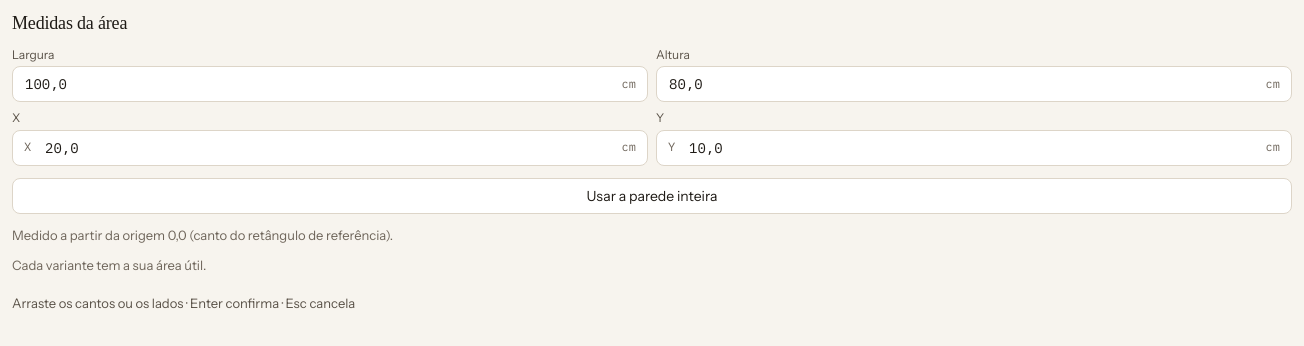
Test: PainelAreaUtil › valor fora da parede não aplica e mostra a faixa (A-13)
Replace the text in the field labelled "X" with "250": (330, 148) left=12, top=130, right=648, bottom=166
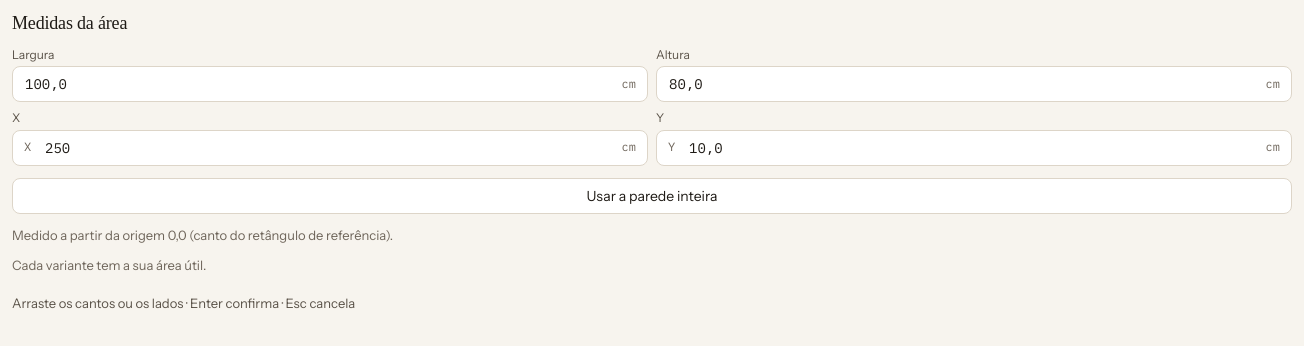
Press Enter in the field labelled "X", box left=12, top=130, right=648, bottom=166
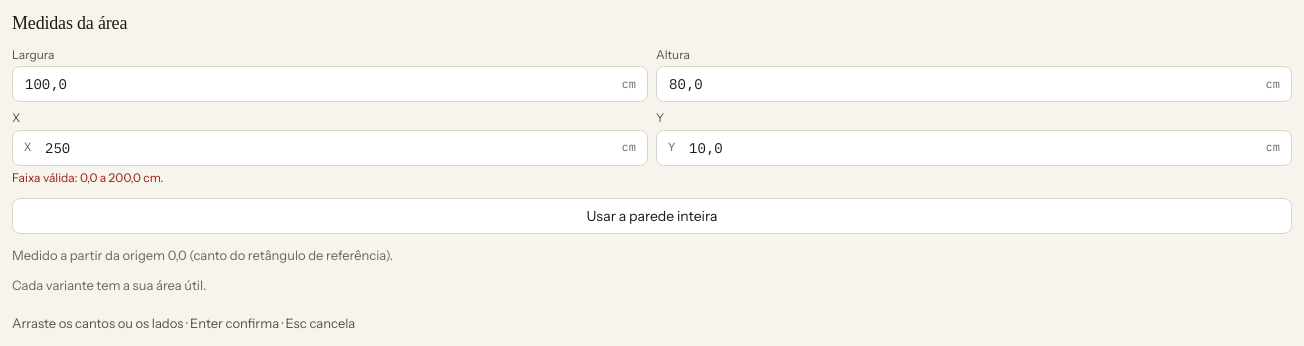
Result: the text "Faixa válida: 0,0 a 200,0 cm." is shown at left=12, top=170, right=163, bottom=185
